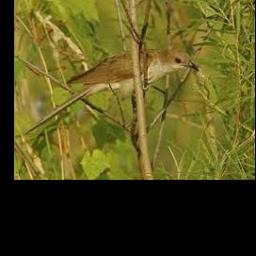Cuckoo: (23, 49, 199, 135)
